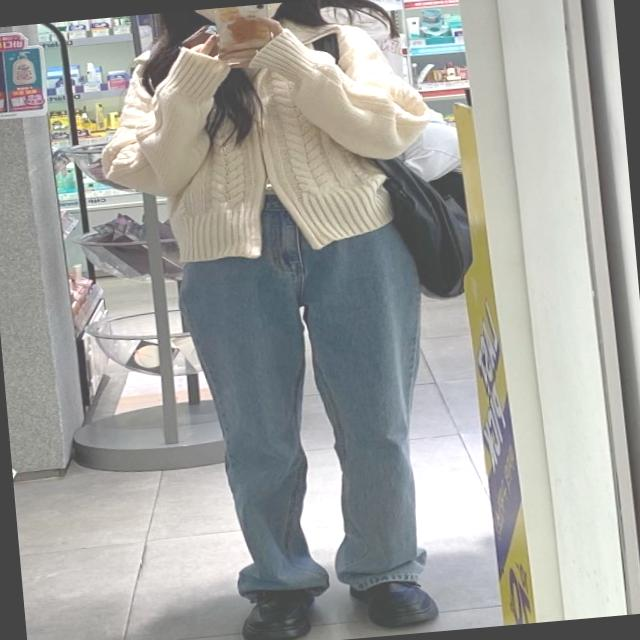cardigan: (90, 10, 440, 271)
denimpants: (167, 179, 450, 605)
